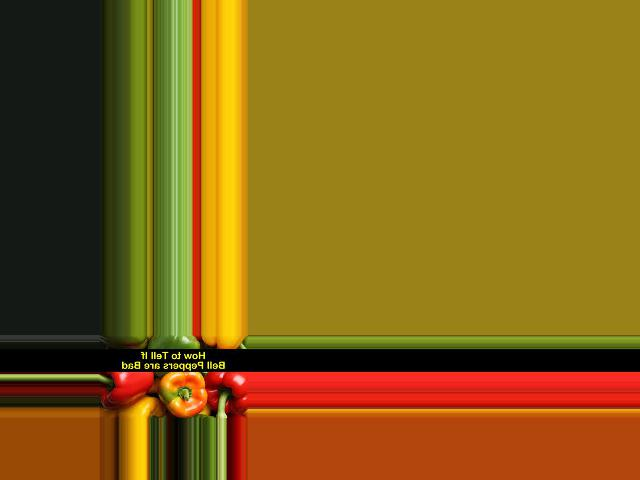bell_pepper: (202, 368, 245, 418)
